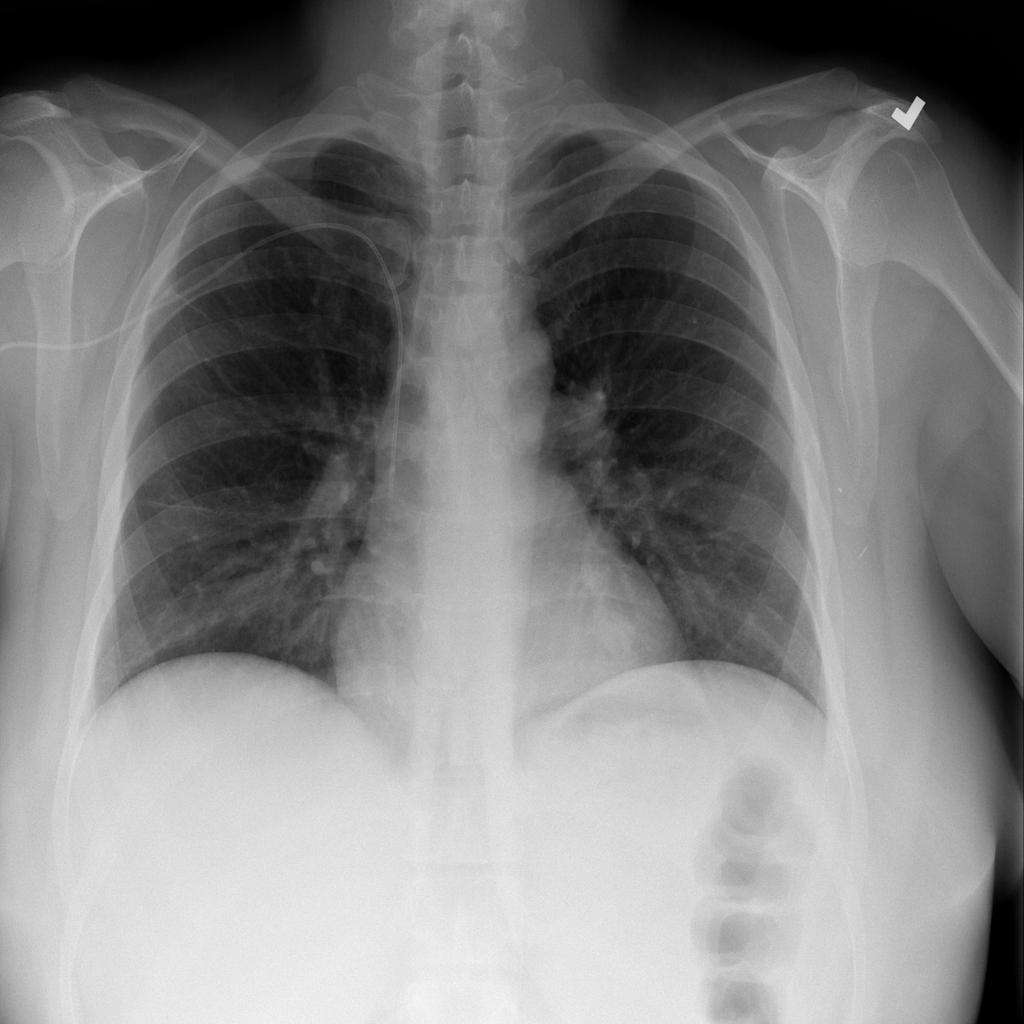nodule: (577, 598, 648, 669)
